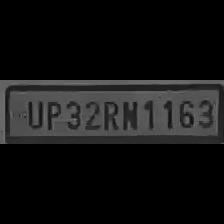1: (140, 96, 158, 132), (158, 96, 174, 130)
2: (82, 96, 102, 130)
3: (61, 97, 81, 130), (196, 95, 214, 129)
6: (174, 96, 194, 128)
N: (120, 96, 140, 132)
P: (42, 97, 62, 130)
R: (100, 97, 118, 131)
U: (22, 97, 44, 129)
